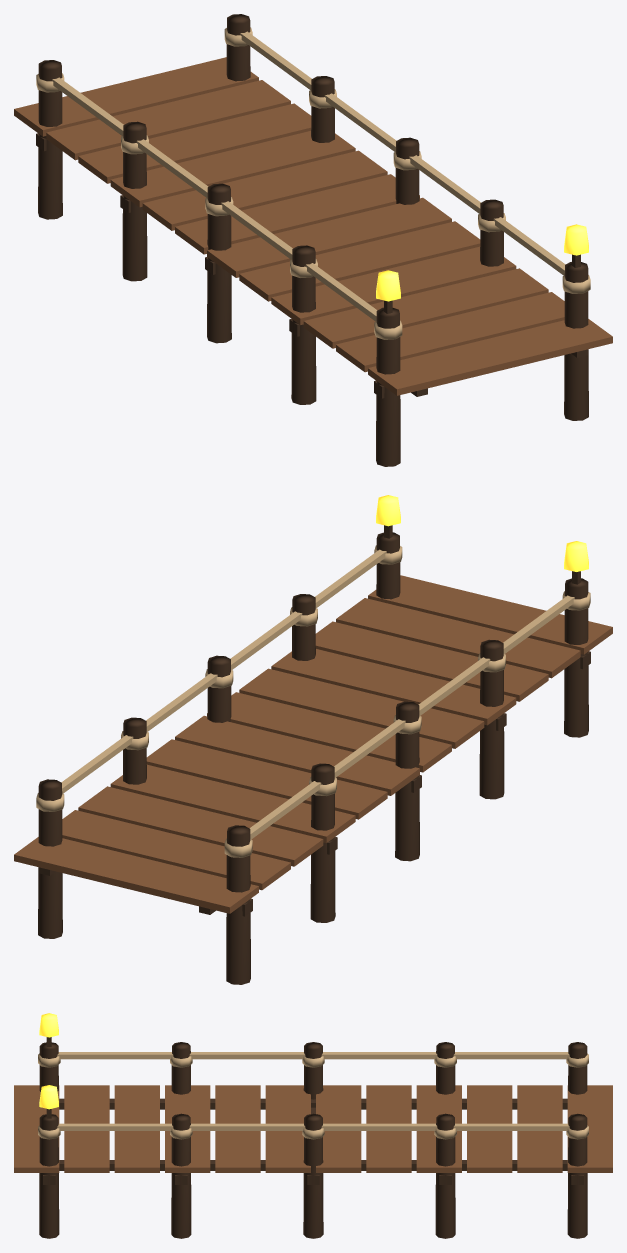
The model's file is prop_03_lakeside_wooden_pier.glb.
3 views of the same model, one above another, from view 1: azimuth 30°, elevation 25°; view 2: azimuth 150°, elevation 25°; view 3: azimuth 270°, elevation 25° (orthographic). The views are drawn at different scales.
Parts seen in each view (by area): view 1: deck_plank_11, deck_plank_1, deck_plank_6, deck_plank_9, deck_plank_4, deck_plank_10, deck_plank_7, deck_plank_3, deck_plank_2, deck_plank_0, deck_plank_5, deck_plank_8 (+14 smaller); view 2: deck_plank_0, deck_plank_10, deck_plank_5, deck_plank_2, deck_plank_7, deck_plank_1, deck_plank_4, deck_plank_8, deck_plank_9, deck_plank_3, deck_plank_11, deck_plank_6 (+14 smaller); view 3: deck_plank_1, deck_plank_2, deck_plank_4, deck_plank_7, deck_plank_9, deck_plank_10, handrail_r, handrail_l, deck_plank_5, deck_plank_6, deck_plank_0, deck_plank_3 (+16 smaller).
Boxes of the visible parts, <box> form: deck_plank_11: <box>368,319,612,395</box>; deck_plank_1: <box>46,80,290,160</box>; deck_plank_6: <box>207,197,451,277</box>; deck_plank_9: <box>303,268,548,348</box>; deck_plank_4: <box>142,150,387,230</box>; deck_plank_10: <box>336,292,564,372</box>; deck_plank_7: <box>239,221,480,301</box>; deck_plank_3: <box>110,131,355,207</box>; deck_plank_2: <box>78,103,311,183</box>; deck_plank_0: <box>14,57,258,136</box>; deck_plank_5: <box>175,174,419,254</box>; deck_plank_8: <box>271,246,516,324</box>; deck_plank_0: <box>14,837,258,913</box>; deck_plank_10: <box>336,598,580,678</box>; deck_plank_5: <box>175,715,419,795</box>; deck_plank_2: <box>78,786,323,866</box>; deck_plank_7: <box>239,668,484,748</box>; deck_plank_1: <box>62,810,290,890</box>; deck_plank_4: <box>146,739,387,819</box>; deck_plank_8: <box>271,649,516,725</box>; deck_plank_9: <box>315,621,548,701</box>; deck_plank_3: <box>110,764,355,842</box>; deck_plank_11: <box>368,575,612,654</box>; deck_plank_6: <box>207,692,451,772</box>; deck_plank_1: <box>517,1085,562,1172</box>; deck_plank_2: <box>467,1085,512,1172</box>; deck_plank_4: <box>366,1085,411,1172</box>; deck_plank_7: <box>215,1085,260,1172</box>; deck_plank_9: <box>114,1085,159,1172</box>; deck_plank_10: <box>64,1085,109,1172</box>; handrail_r: <box>57,1123,569,1130</box>; handrail_l: <box>57,1052,569,1059</box>; deck_plank_5: <box>316,1085,361,1172</box>; deck_plank_6: <box>265,1085,310,1172</box>; deck_plank_0: <box>567,1085,612,1172</box>; deck_plank_3: <box>416,1085,461,1172</box>.
Size of the model in its own units: 3.1 by 2.56 by 9.52.
